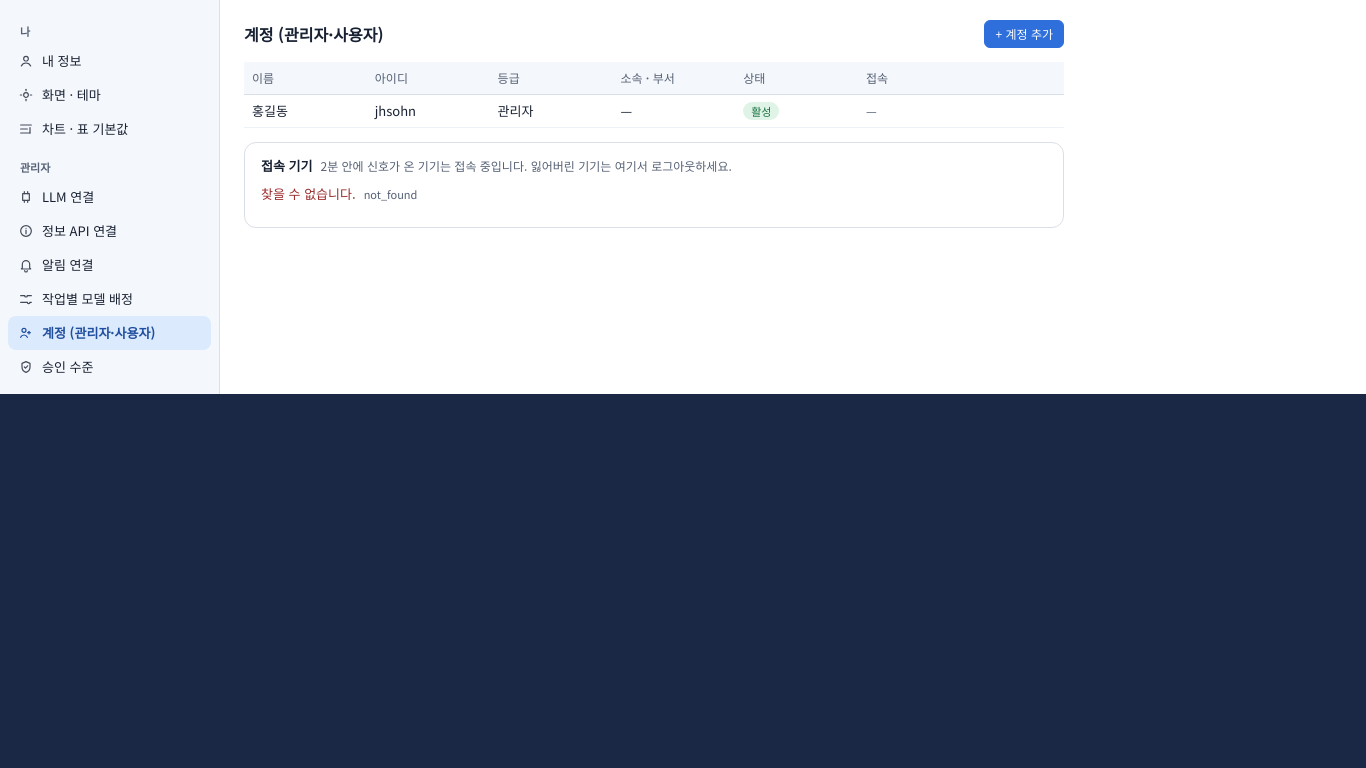
Test: editing an account sends only what changed and shows the server message inline
Click the text "jhsohn". click: {"x": 395, "y": 110}
box: [375,101,416,120]
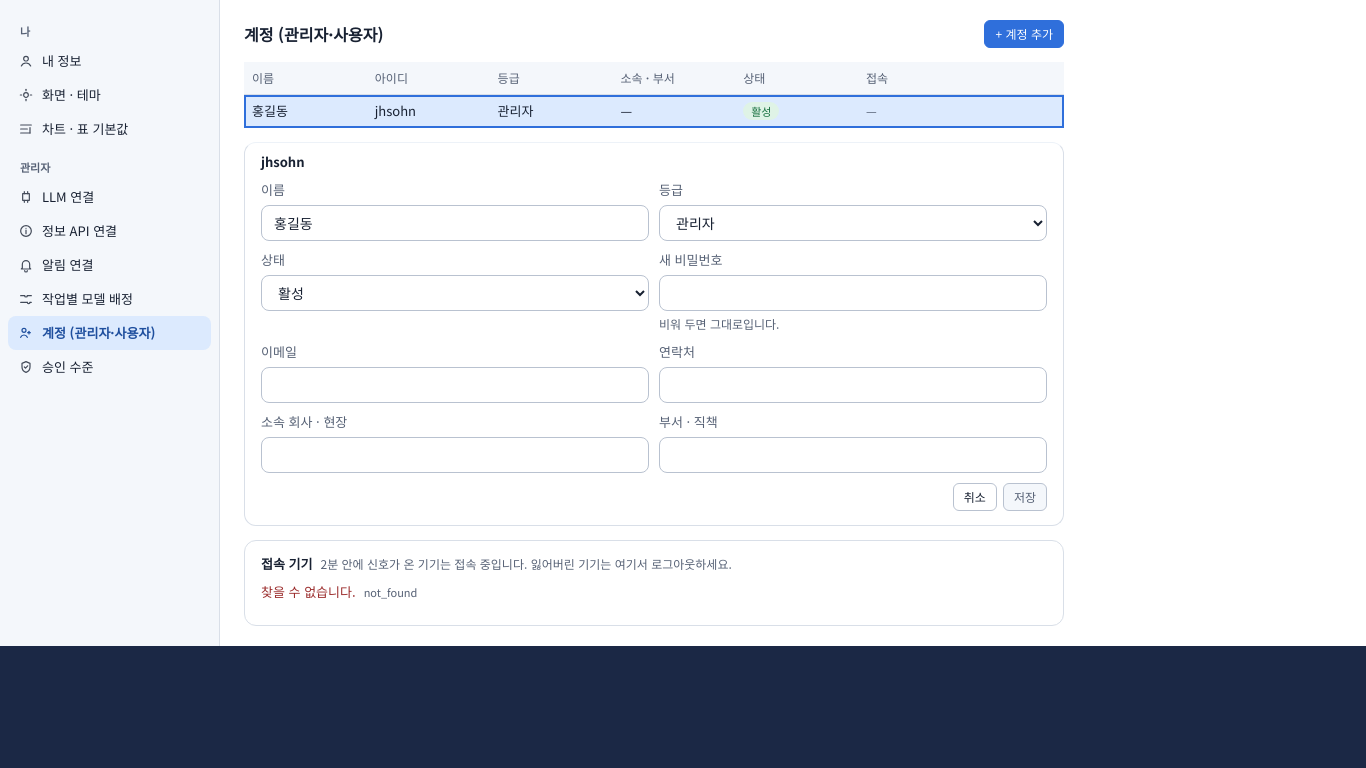
Now the field labelled "이름" holds "홍길동", box [261,205,649,241]
Select "사용자" in the dropdown labelled "등급". click: {"x": 853, "y": 223}
box: [659,205,1047,241]
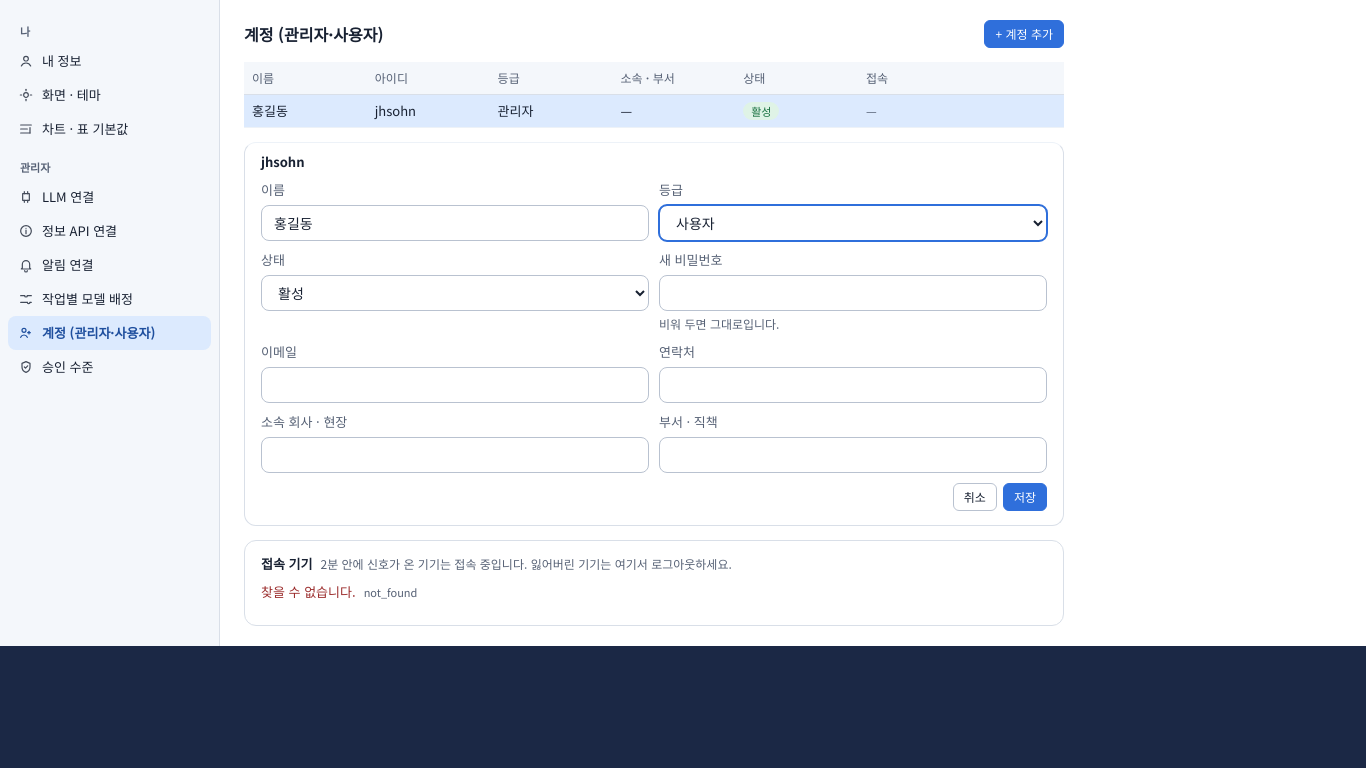
Click the button "저장". click: {"x": 1025, "y": 497}
box: [1003,483,1047,511]
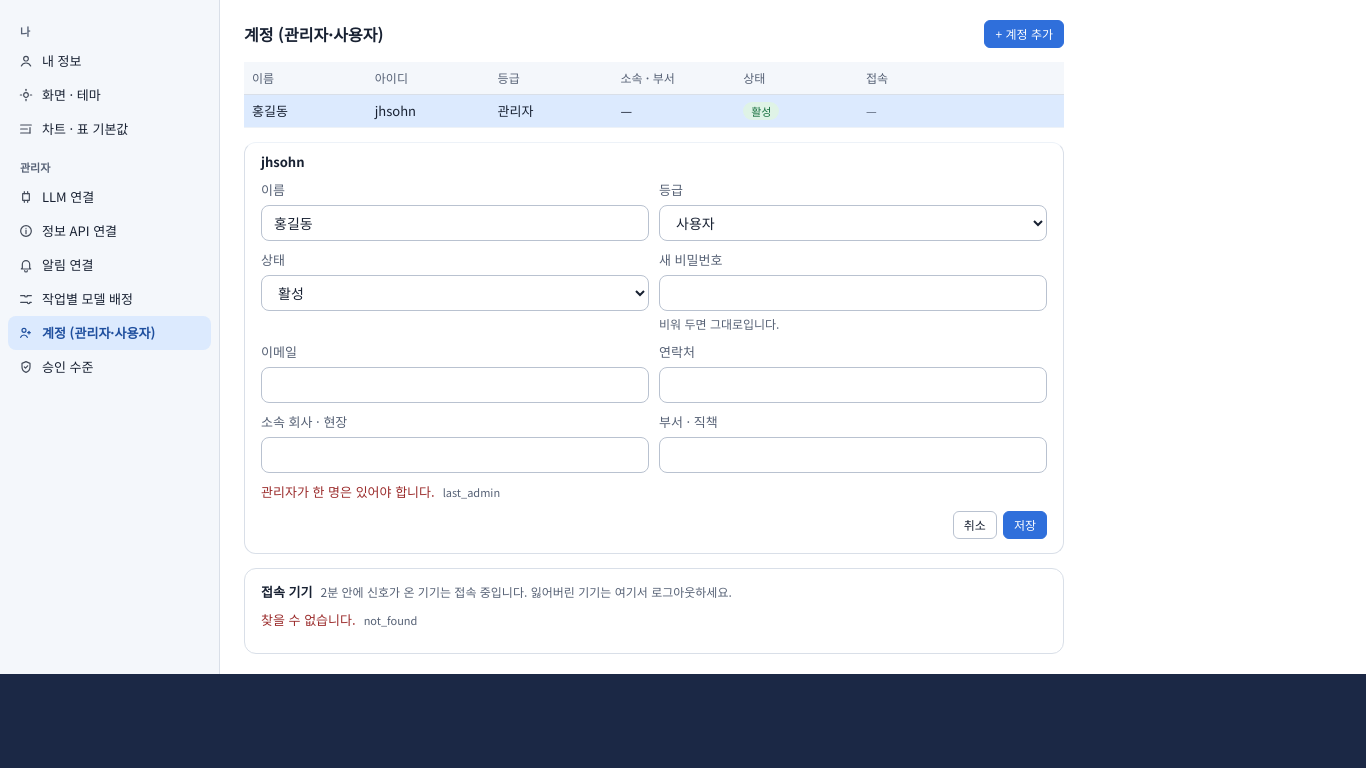
Now the text "관리자가 한 명은 있어야 합니다." is shown, box [261,483,435,501]
